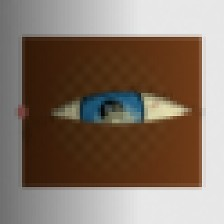corneal_ulcer: (93, 102, 143, 142)
